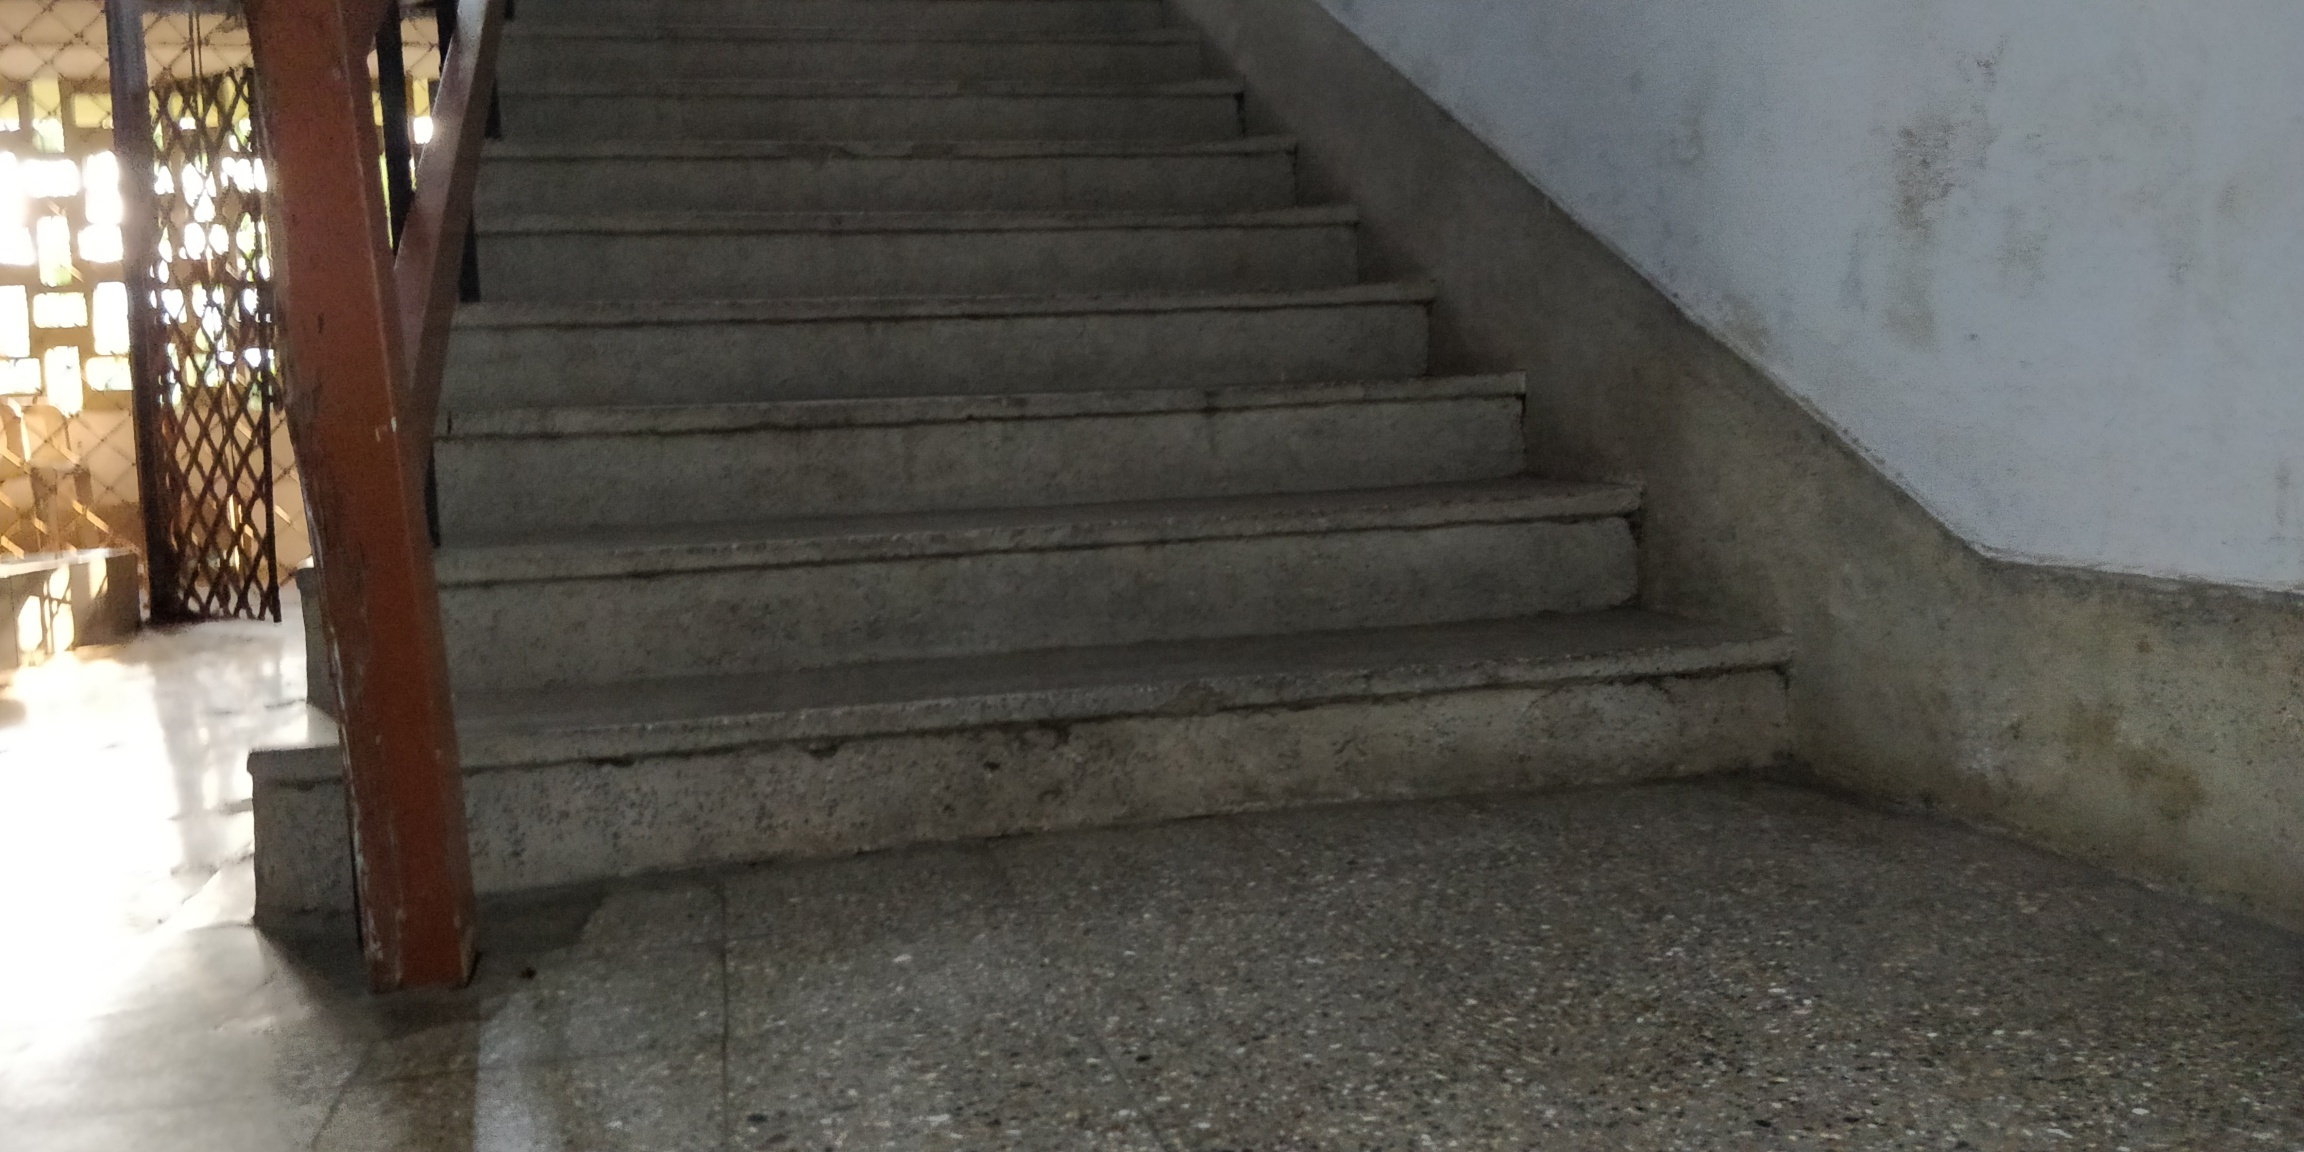stairs_up: (251, 1, 1897, 921)
